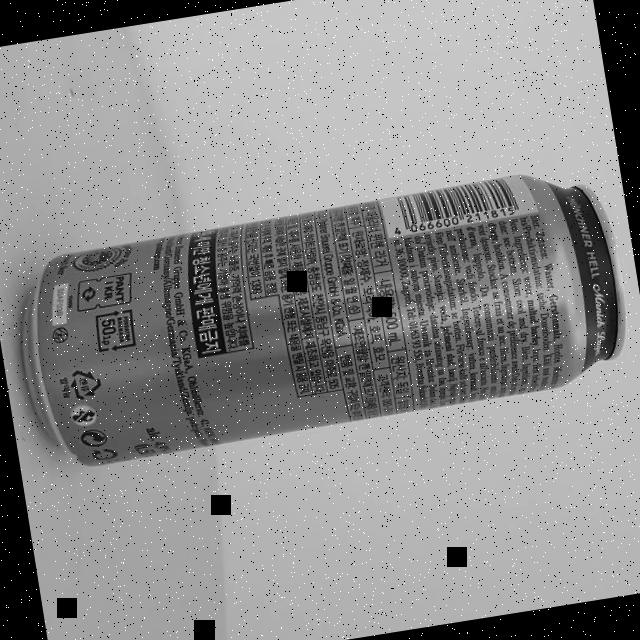can: (5, 161, 638, 474)
